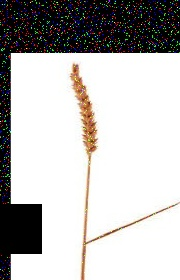wheat: (64, 63, 98, 152)
